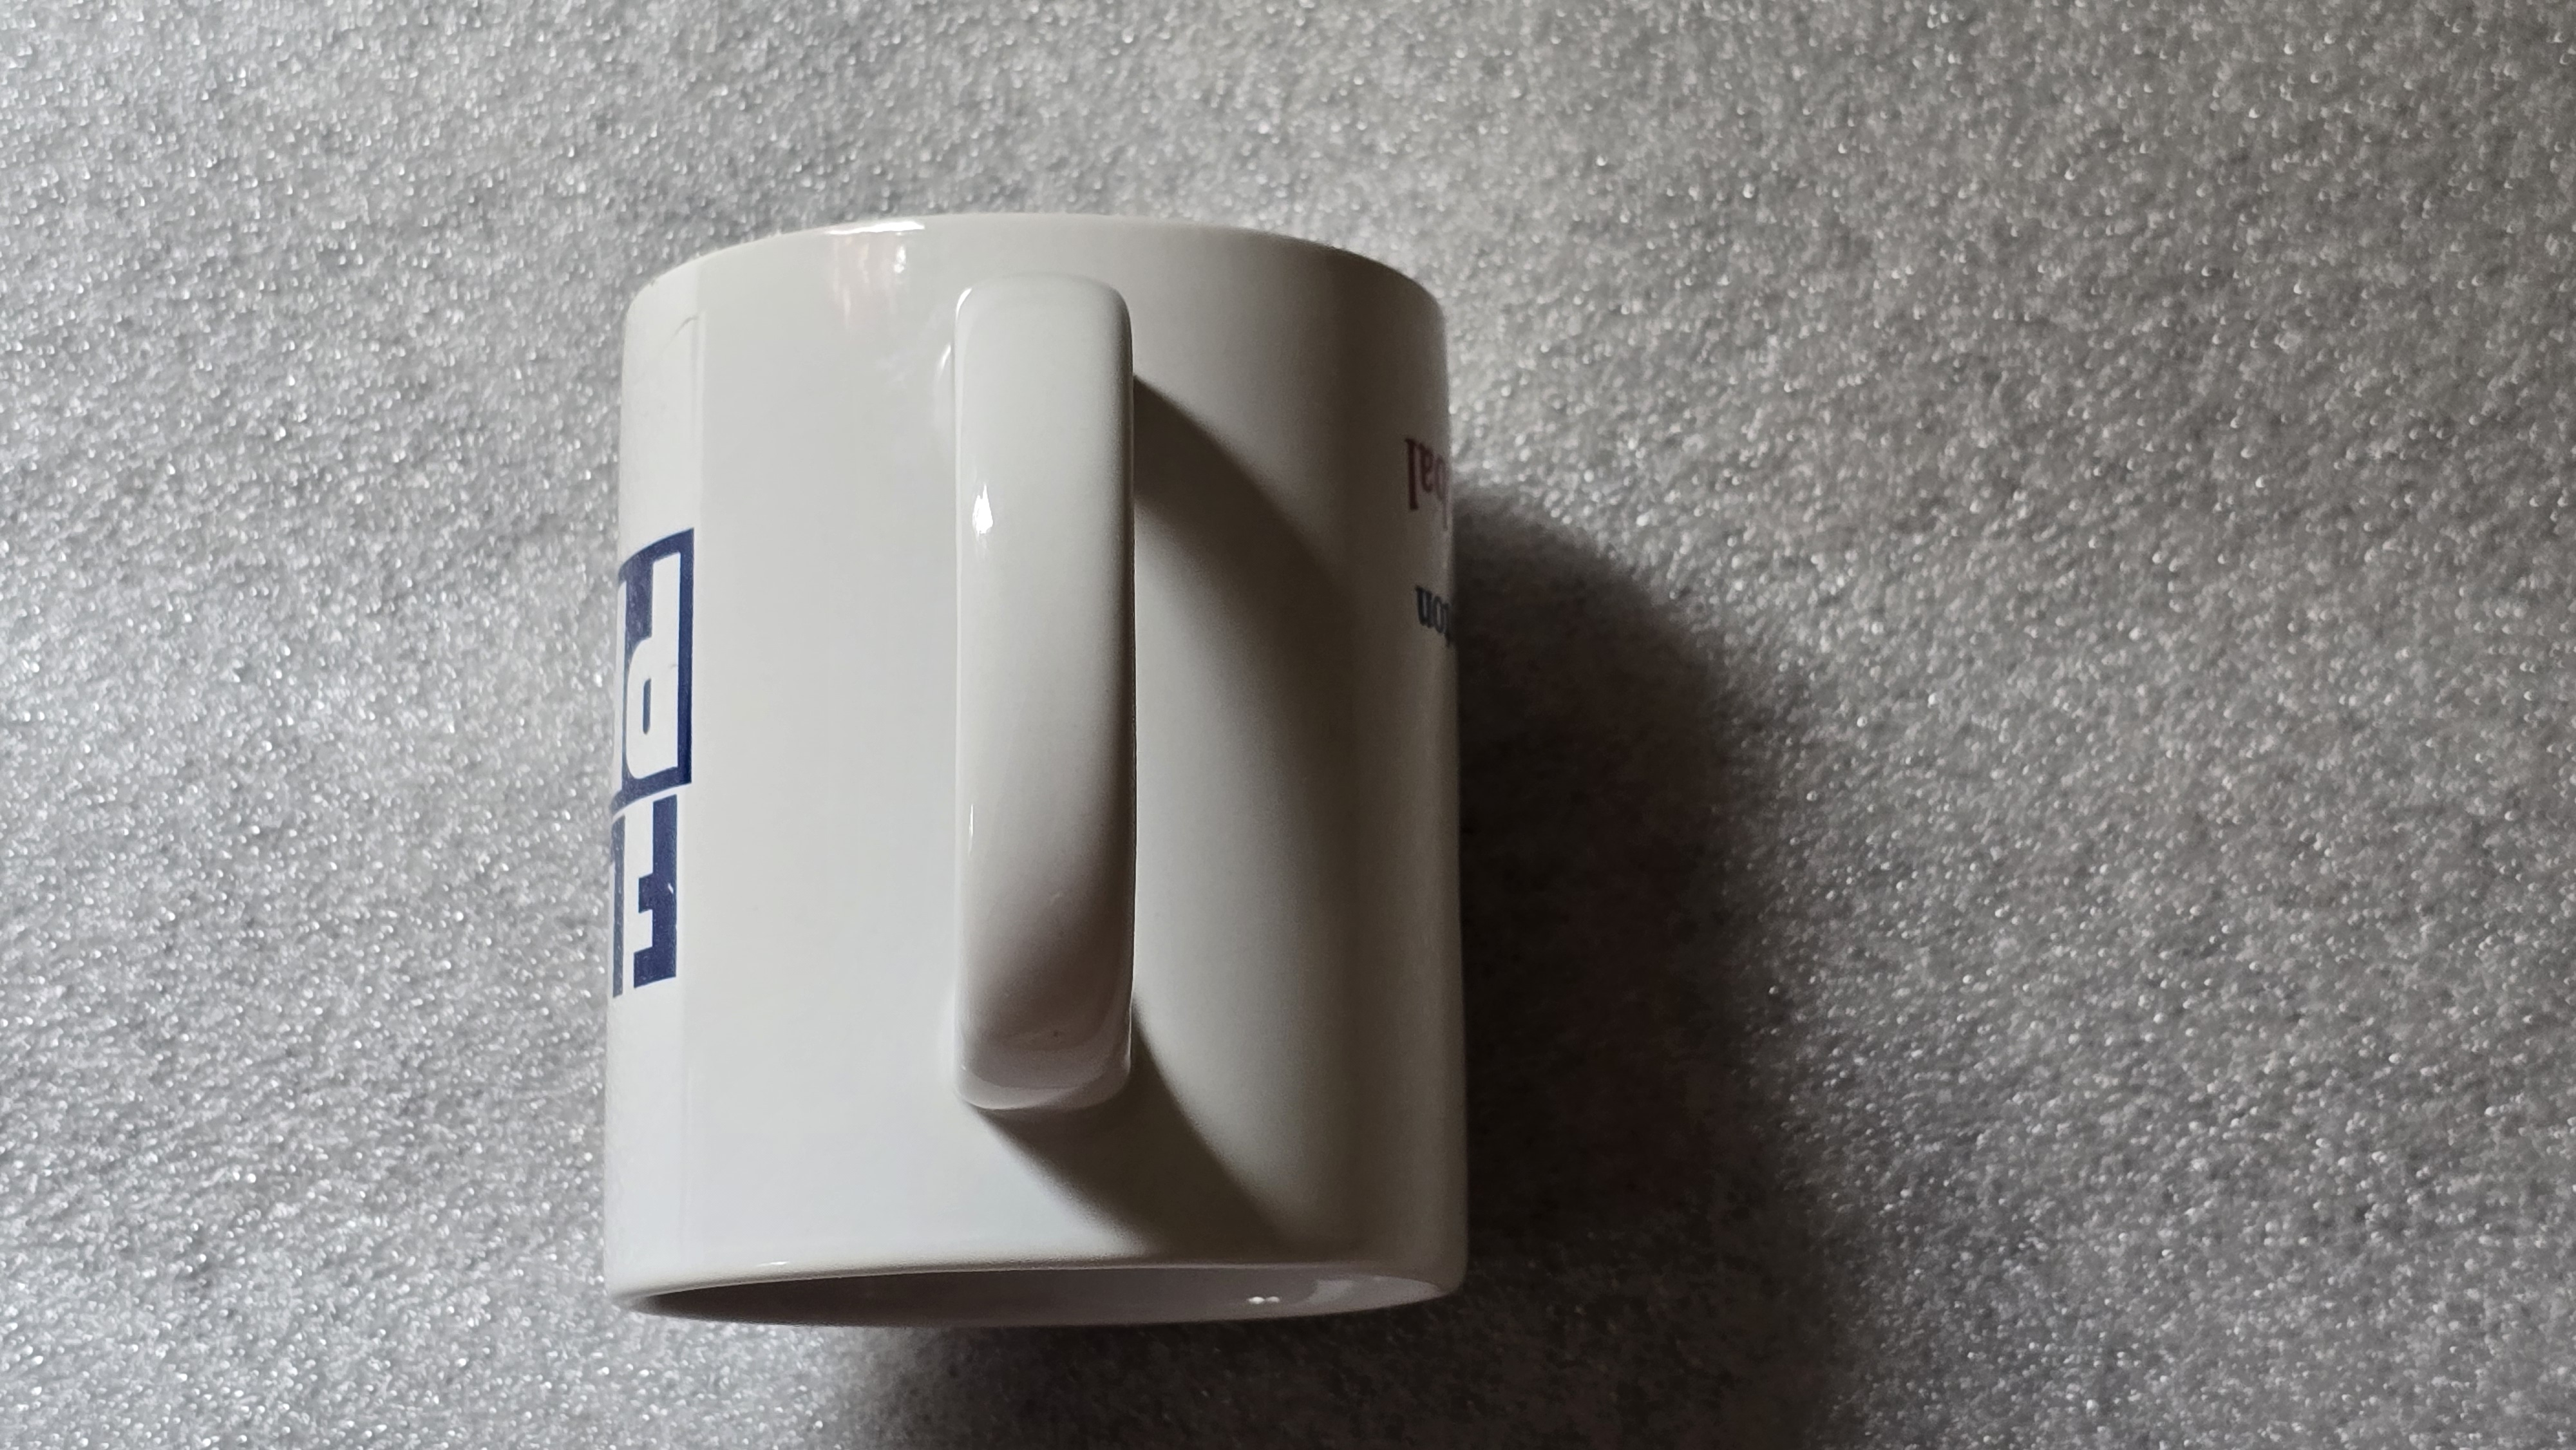mug: (593, 210, 1522, 1337)
